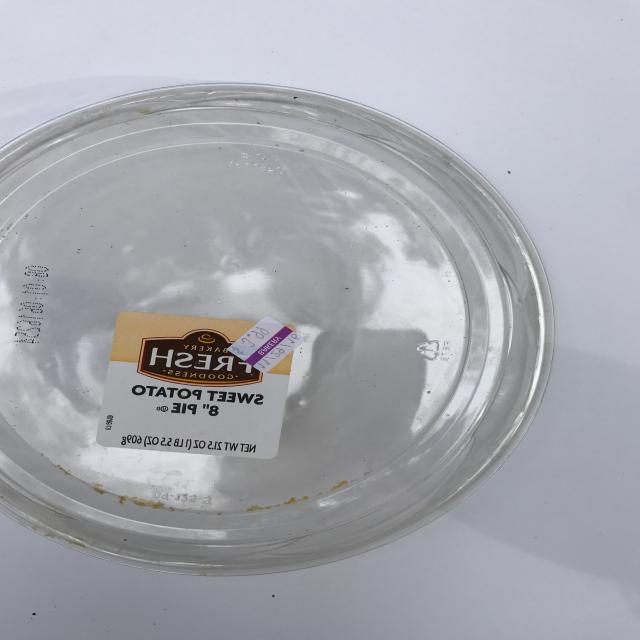plastic: (0, 81, 555, 576)
